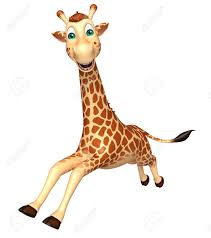Jirafa: (37, 5, 188, 187)
